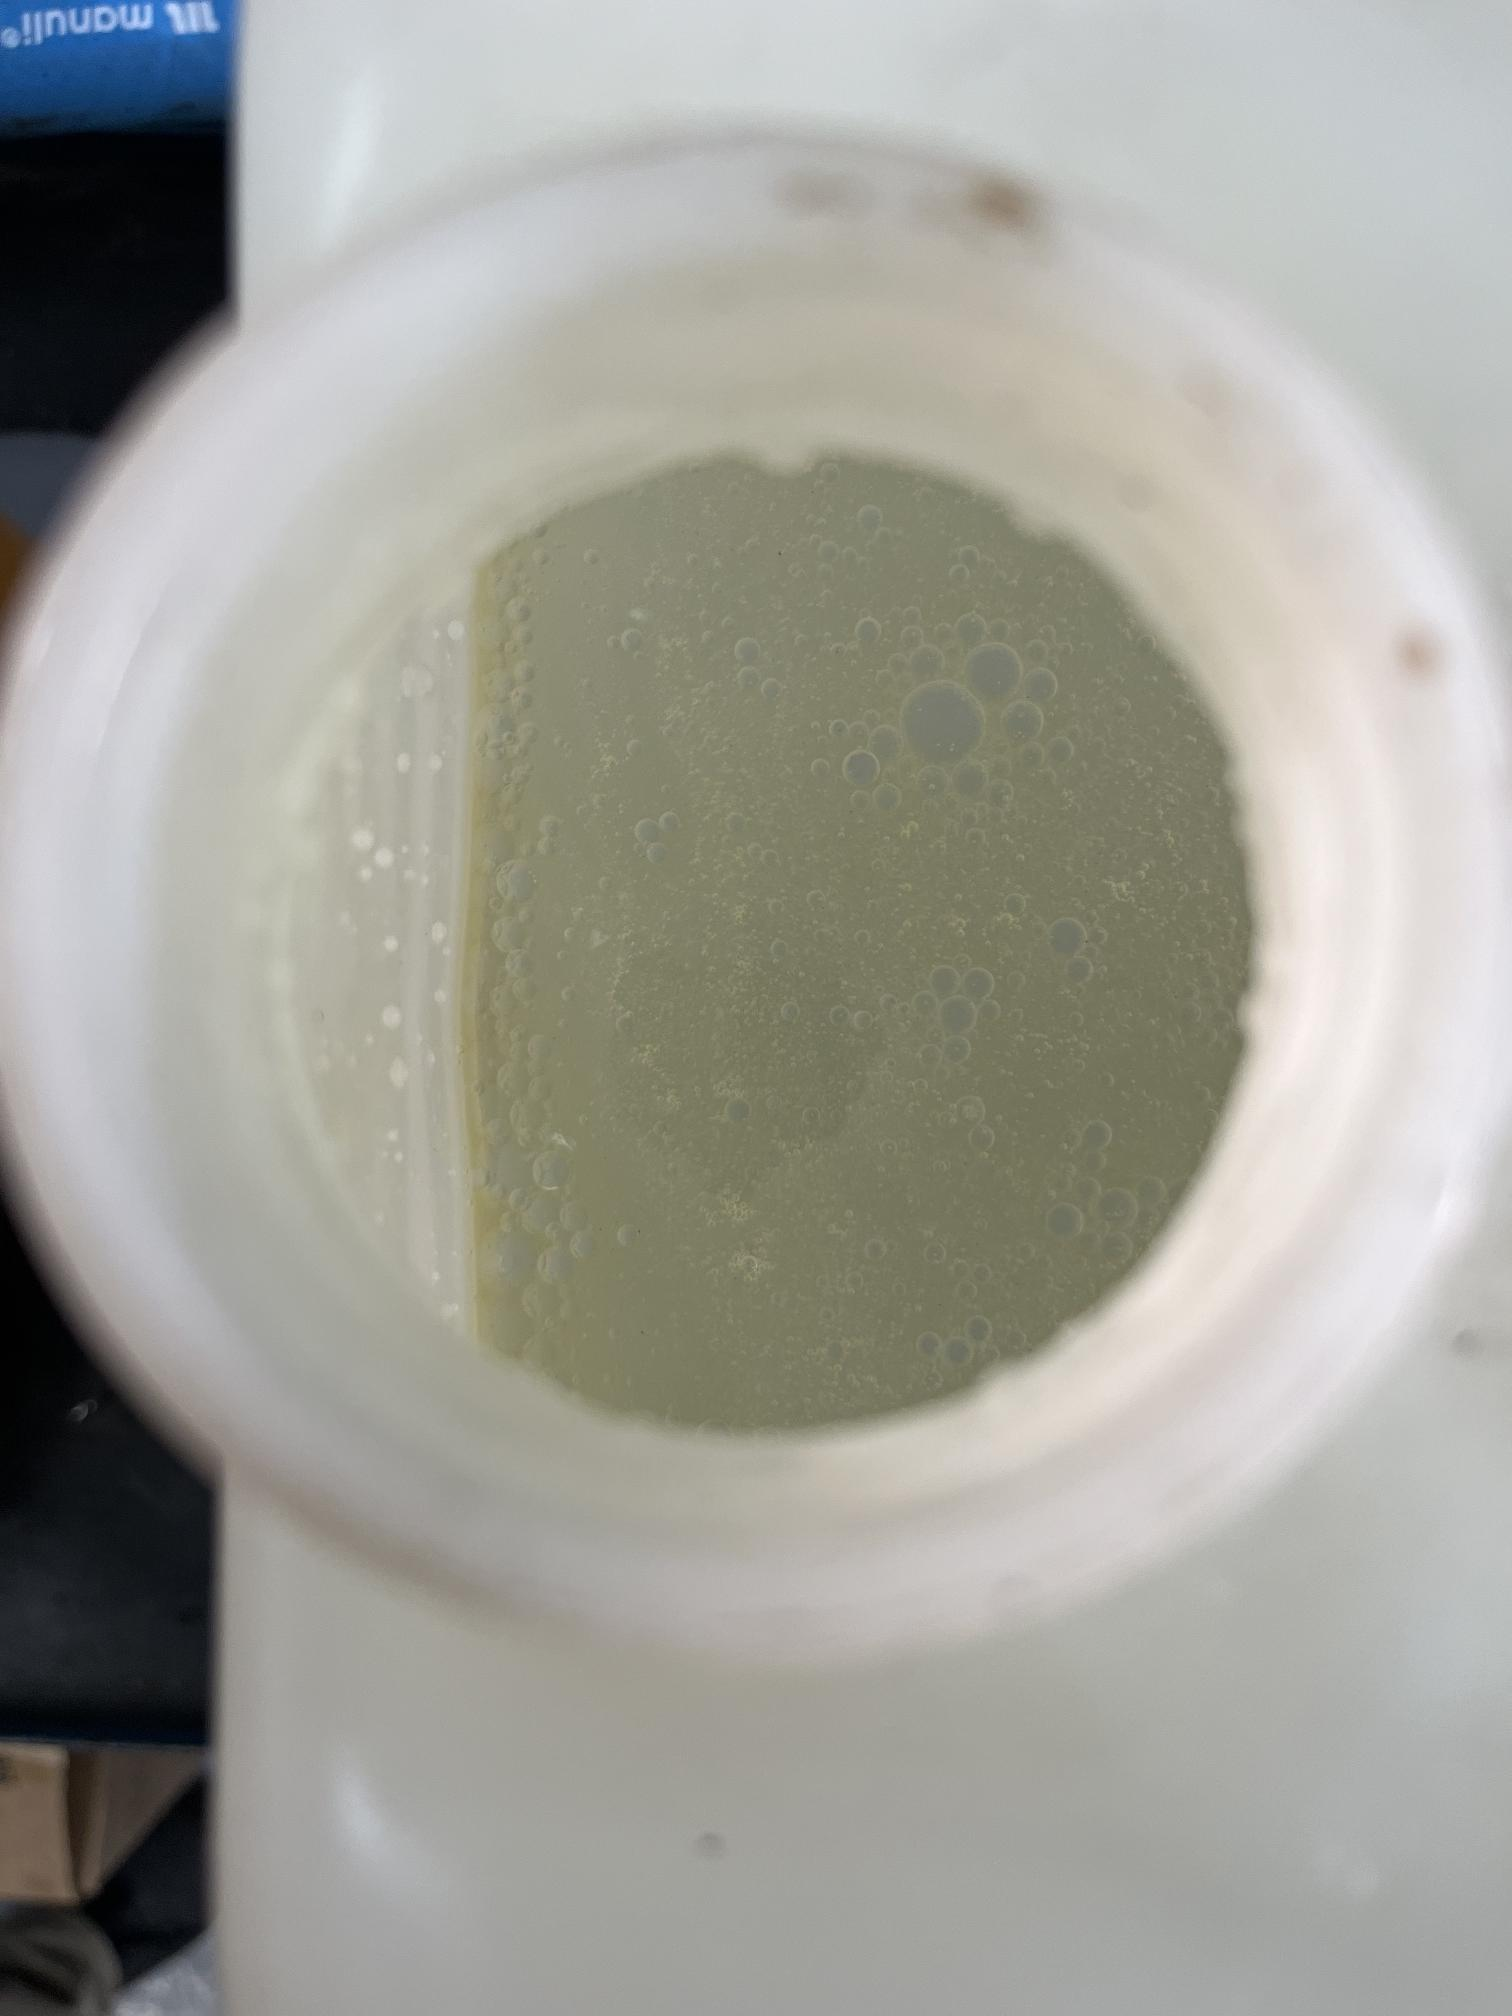Presenca de Oleo - - 170ml: (249, 414, 1420, 1575)
